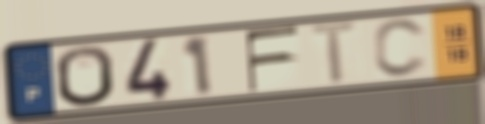1: (180, 33, 215, 99)
4: (122, 37, 175, 105)
C: (371, 17, 432, 80)
F: (242, 24, 304, 96)
O: (53, 44, 118, 109)
T: (307, 18, 365, 88)
